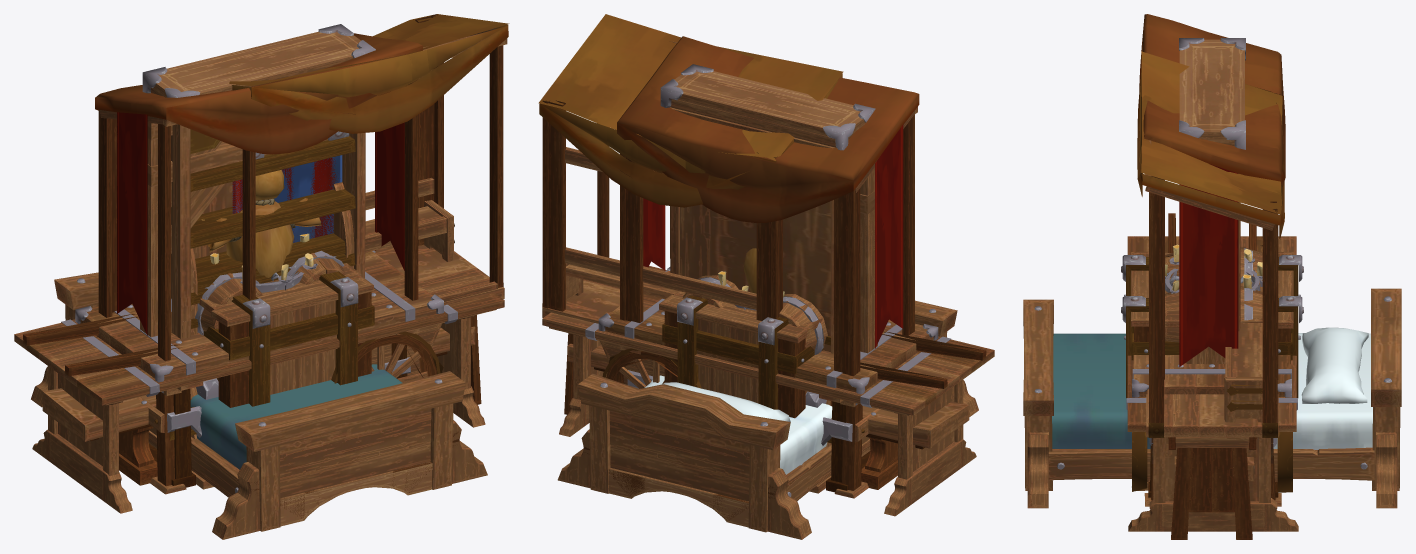
File: props_gegenstaende.glb
3 views of the same model, side by side, from view 1: azimuth 30°, elevation 25°; view 2: azimuth 150°, elevation 25°; view 3: azimuth 270°, elevation 25° (orthographic). The views are drawn at different scales.
Parts seen in each view (by area): view 1: Marktstand2, Bett1, Marktstand1, Regal1, Tisch1, Kiste1, Werkbank1, Banner2, Bank1, Banner1, Strohpuppe1, Regal2 (+2 smaller); view 2: Marktstand1, Marktstand2, Bett1, Regal1, Tisch1, Kiste1, Werkbank1, Bank1, Banner1, Bett2, Fassgestell1, Banner2; view 3: Bett1, Marktstand2, Marktstand1, Tisch1, Regal1, Kiste1, Werkbank1, Fassgestell1, Kerzenstaender1.
Boxes of the visible parts, x1=… form: Marktstand2: x1=23, y1=14, x2=509, y2=404; Bett1: x1=31, y1=272, x2=487, y2=539; Marktstand1: x1=95, y1=33, x2=422, y2=494; Regal1: x1=142, y1=24, x2=375, y2=448; Tisch1: x1=14, y1=246, x2=504, y2=513; Kiste1: x1=199, y1=263, x2=374, y2=407; Werkbank1: x1=75, y1=251, x2=443, y2=487; Banner2: x1=147, y1=131, x2=349, y2=336; Bank1: x1=42, y1=326, x2=475, y2=485; Banner1: x1=140, y1=123, x2=338, y2=337; Strohpuppe1: x1=201, y1=170, x2=321, y2=277; Regal2: x1=190, y1=182, x2=354, y2=334; Marktstand1: x1=617, y1=36, x2=919, y2=498; Marktstand2: x1=538, y1=14, x2=986, y2=414; Bett1: x1=557, y1=300, x2=978, y2=539; Regal1: x1=660, y1=64, x2=875, y2=456; Tisch1: x1=542, y1=266, x2=994, y2=516; Kiste1: x1=659, y1=291, x2=822, y2=418; Werkbank1: x1=598, y1=267, x2=938, y2=492; Bank1: x1=567, y1=343, x2=969, y2=489; Banner1: x1=860, y1=168, x2=874, y2=353; Bett2: x1=583, y1=401, x2=776, y2=521; Fassgestell1: x1=682, y1=275, x2=832, y2=405; Banner2: x1=860, y1=191, x2=877, y2=352; Bett1: x1=1023, y1=288, x2=1401, y2=508; Marktstand2: x1=1132, y1=51, x2=1292, y2=539; Marktstand1: x1=1139, y1=14, x2=1285, y2=506; Tisch1: x1=1126, y1=236, x2=1298, y2=531; Regal1: x1=1179, y1=38, x2=1245, y2=363; Kiste1: x1=1121, y1=251, x2=1303, y2=398; Werkbank1: x1=1132, y1=355, x2=1291, y2=497; Fassgestell1: x1=1165, y1=247, x2=1262, y2=342; Kerzenstaender1: x1=1165, y1=244, x2=1262, y2=293.
Size of the model in its own units: 3.02 by 2.64 by 2.41.
Materials: 4 (4 with a texture image).
